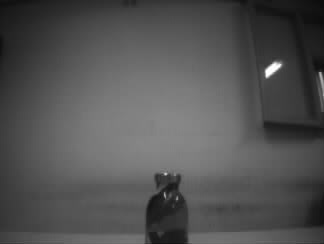Bottle: (145, 172, 190, 244)
